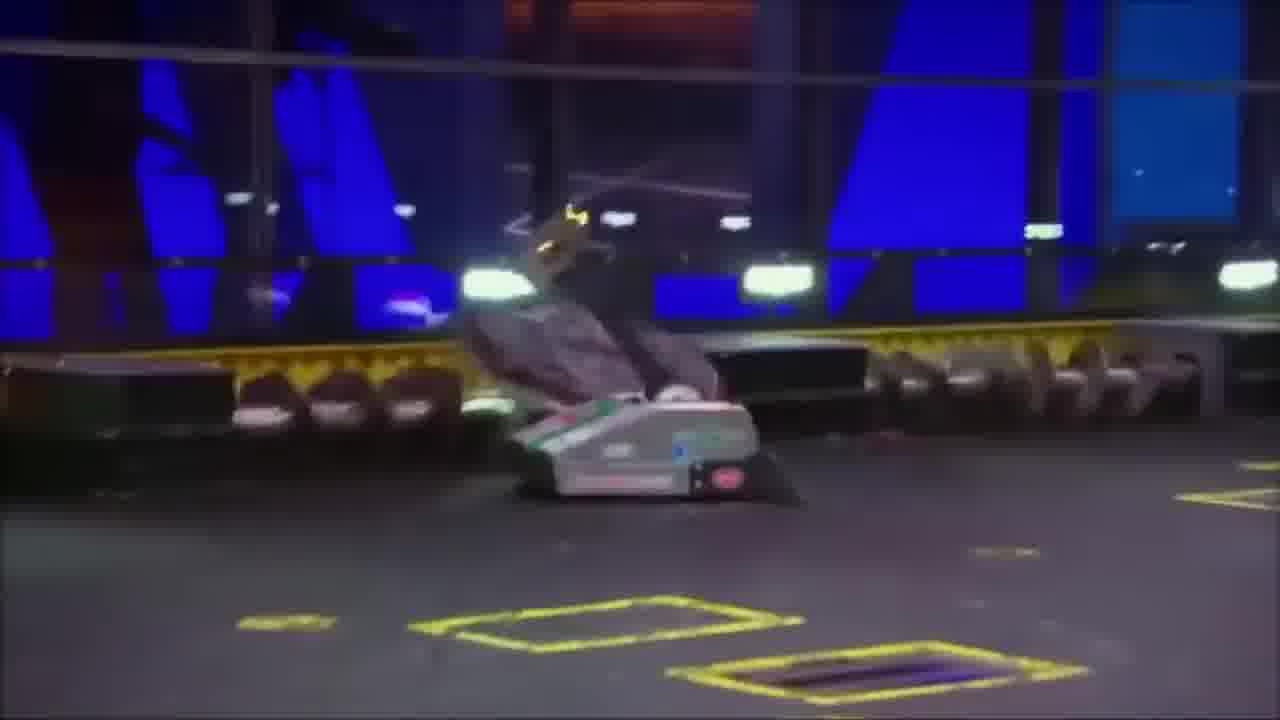combatbot: (456, 206, 729, 402), (509, 389, 790, 506)
